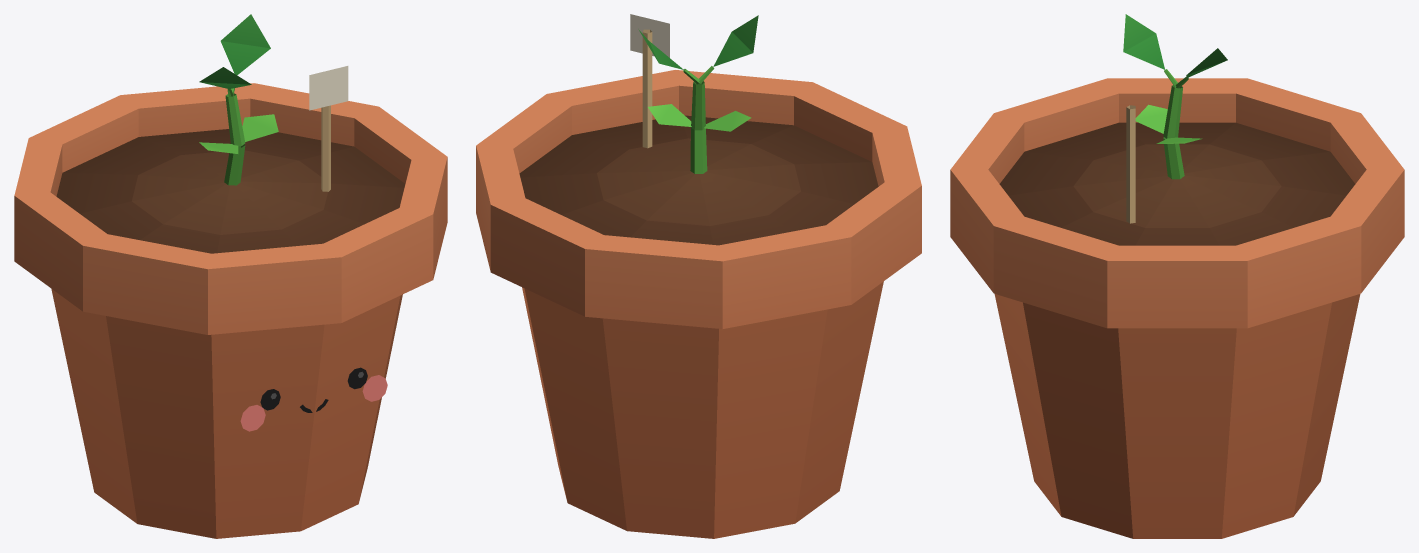
Rendered from cute_pepper_stage1.glb.
The picture shows the model from 3 angles, left to right: view 1: azimuth 30°, elevation 25°; view 2: azimuth 150°, elevation 25°; view 3: azimuth 270°, elevation 25°; orthographic projection. The views are drawn at different scales.
Visible parts, largest first — view 1: PepperPlant; view 2: PepperPlant; view 3: PepperPlant.
Boxes of the visible parts, left/top/right/bottom form: PepperPlant: left=14, top=14, right=447, bottom=538; PepperPlant: left=476, top=14, right=921, bottom=538; PepperPlant: left=950, top=14, right=1404, bottom=538.
Bounding box in the file's own units: 0.3766 × 0.4362 × 0.396.
